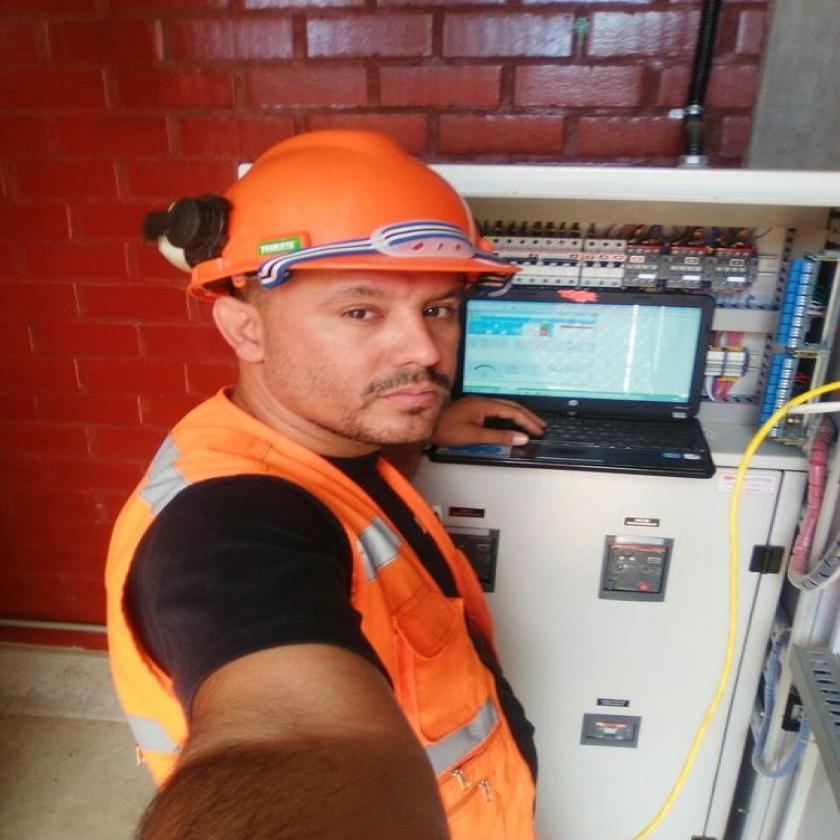Con_casco: (146, 128, 520, 478)
